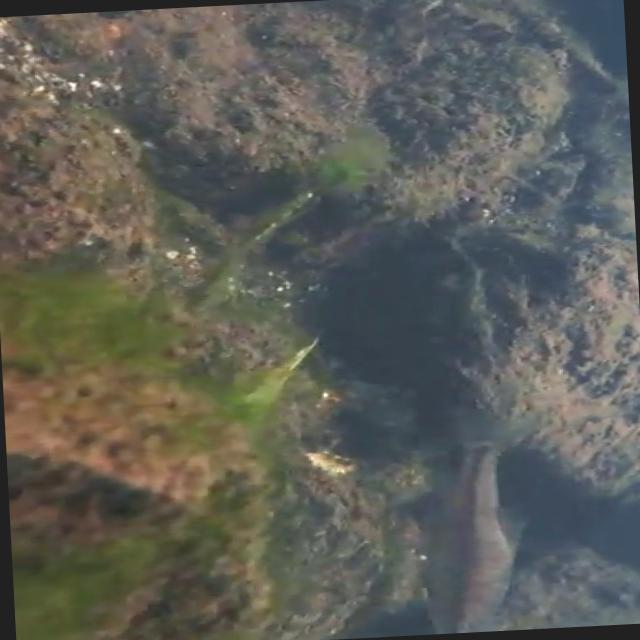Cakil Baligi: (400, 398, 572, 636)
